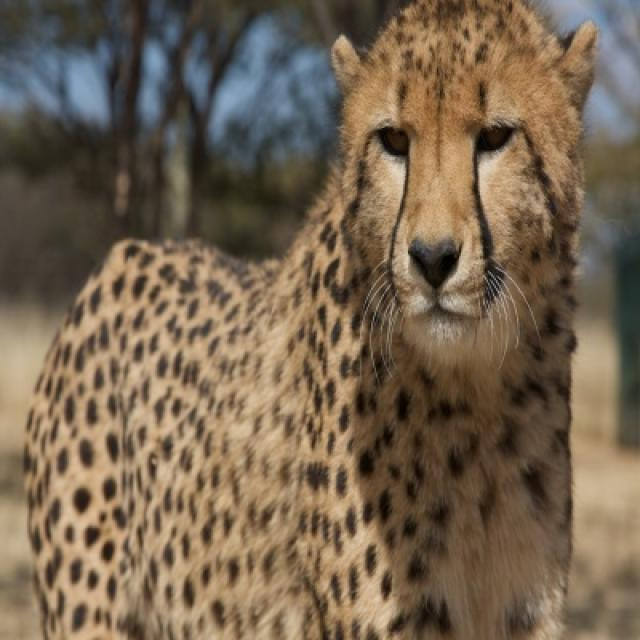Cheetah: (22, 0, 597, 638)
